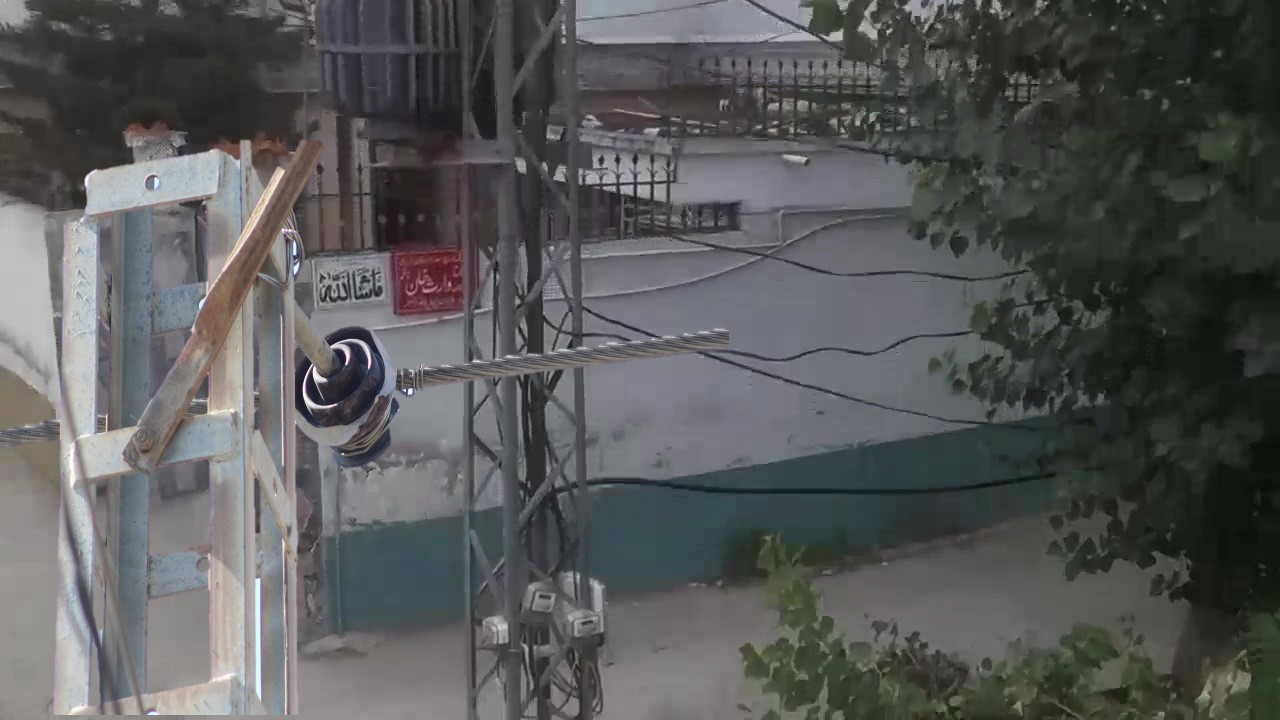defect_pin: (292, 320, 412, 473)
